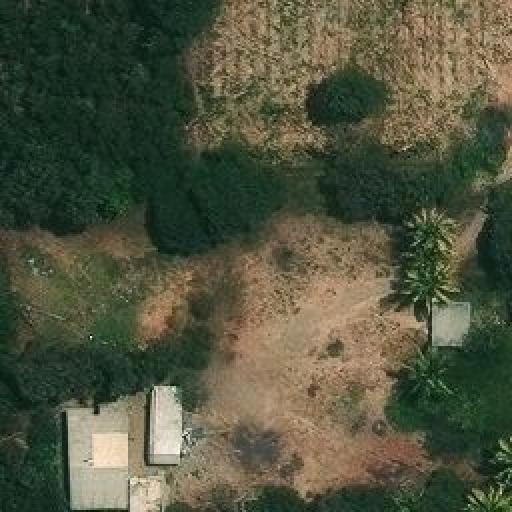manzanas: (60, 375, 183, 510), (425, 292, 471, 355)
